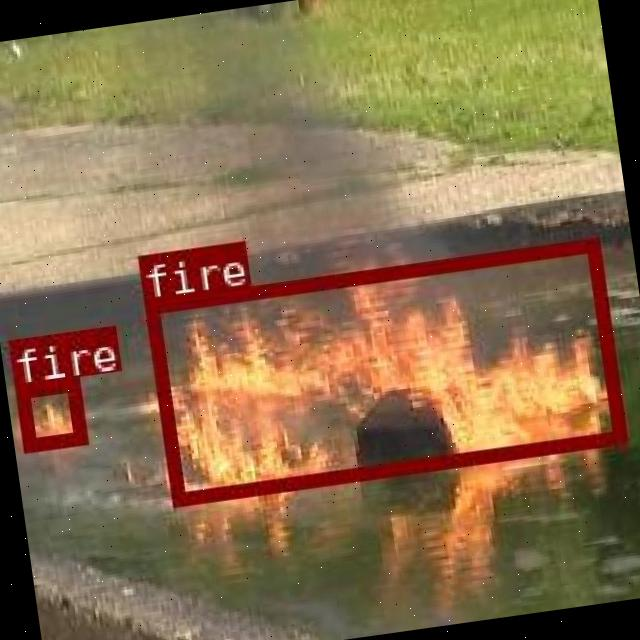fire: (142, 236, 624, 504), (14, 376, 86, 451)
